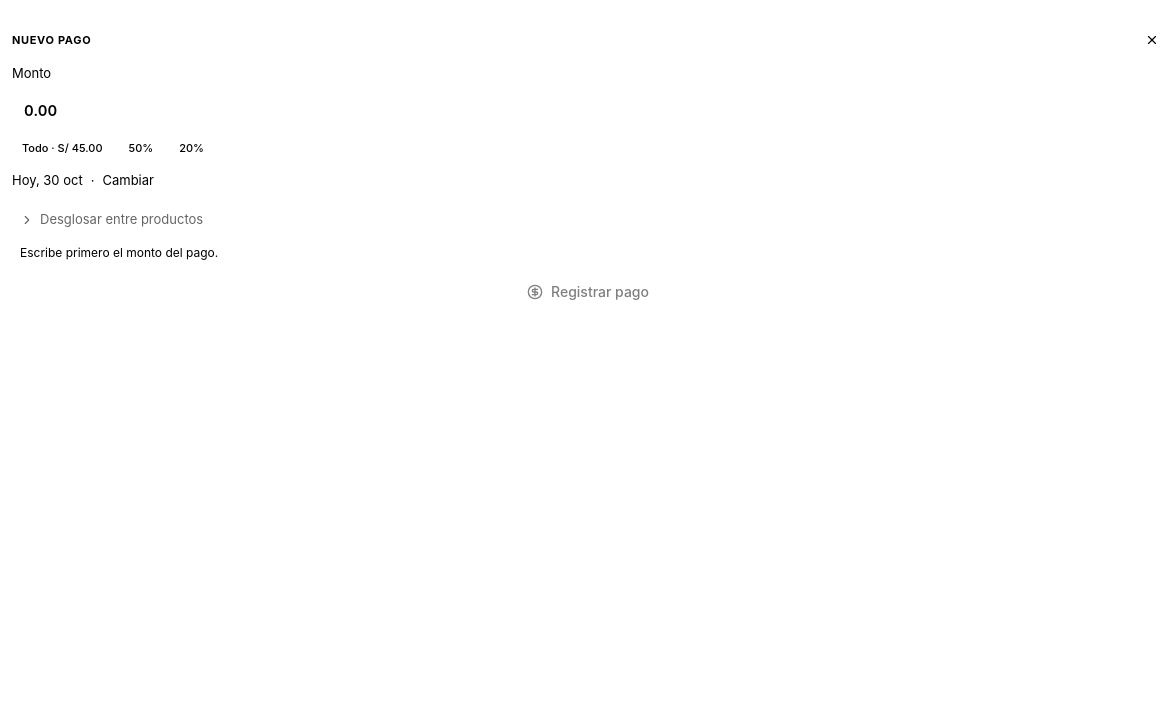
Test: order payment breakdown · a covered product is not offered (E5) › renders neither a checkbox nor a field for a product whose price is already covered
Type "45.00" into the field labelled "Monto" at point(588, 111), box [12,90,1164,132]
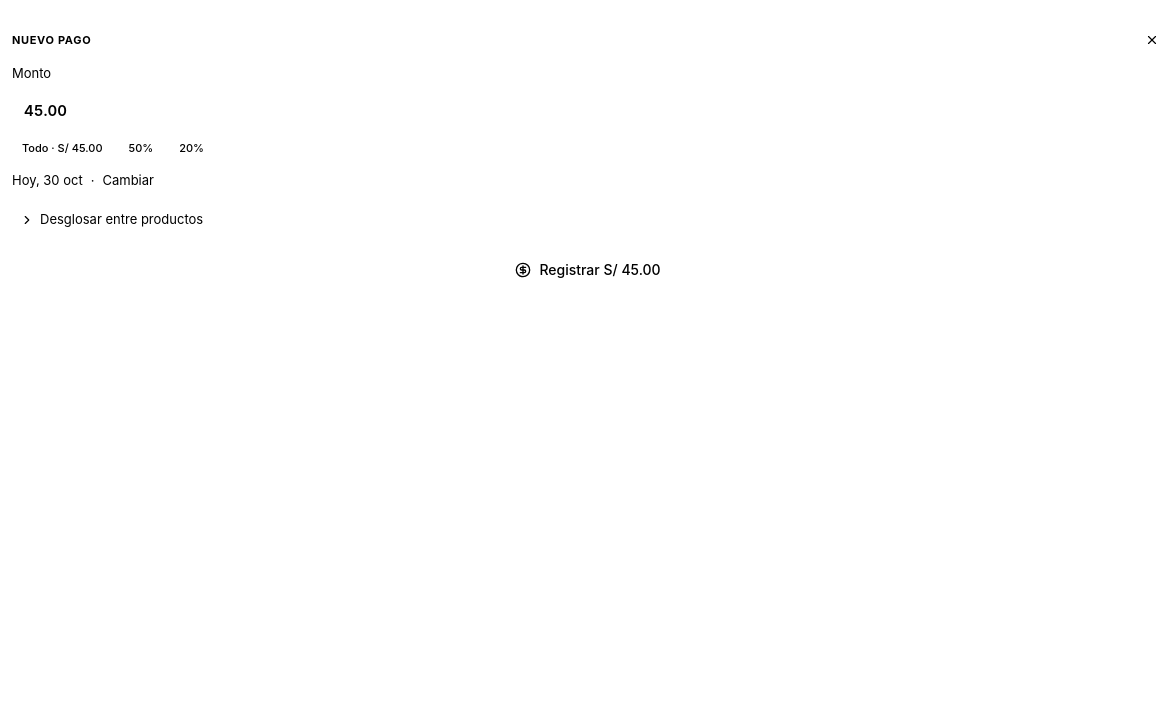
Click the button "Desglosar entre productos" at point(122, 219), box [12,200,1164,240]
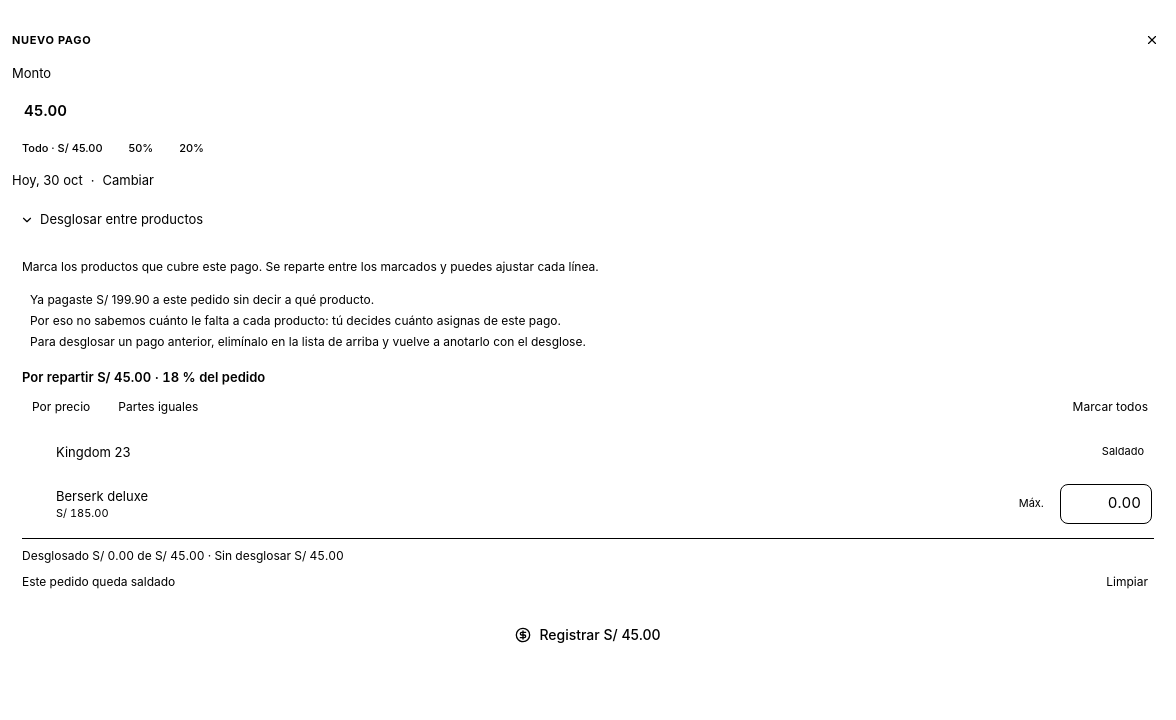
Result: the text "Saldado" is shown at [1102,444,1144,458]
